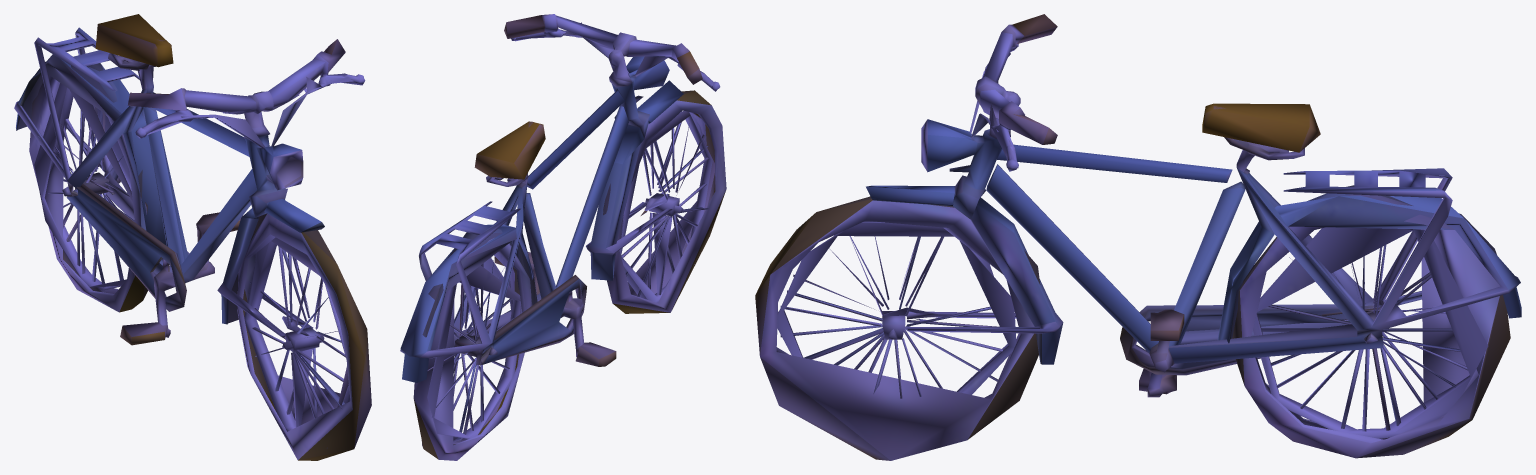
File: model.progressive.glb
The picture shows the model from 3 angles, left to right: view 1: azimuth 30°, elevation 25°; view 2: azimuth 150°, elevation 25°; view 3: azimuth 270°, elevation 25°; orthographic projection. The views are drawn at different scales.
Visible parts, largest first — view 1: material; view 2: material; view 3: material.
Boxes of the visible parts, box(x1,y1,x2,y2) form: material: box(14, 14, 371, 460); material: box(400, 14, 726, 460); material: box(755, 14, 1521, 460).
Bounding box in the file's own units: 0.7283 × 1.07 × 1.88.
Materials: 1 (1 with a texture image).
